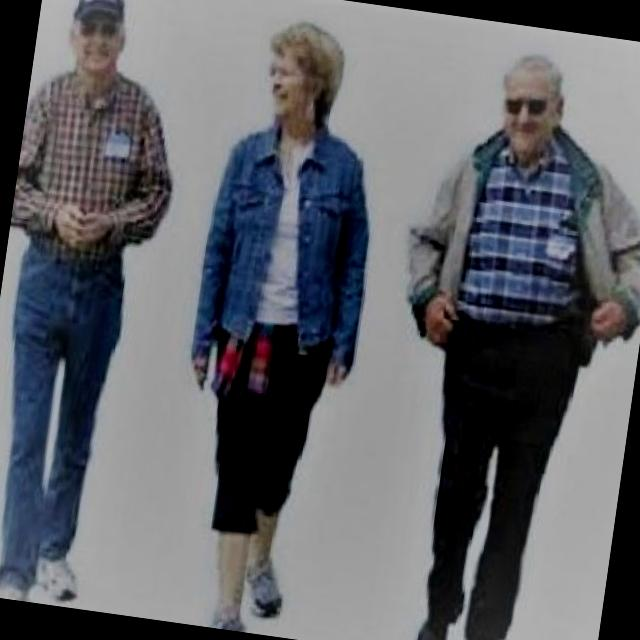Person: (347, 29, 640, 640), (144, 1, 407, 640), (0, 0, 200, 611)
